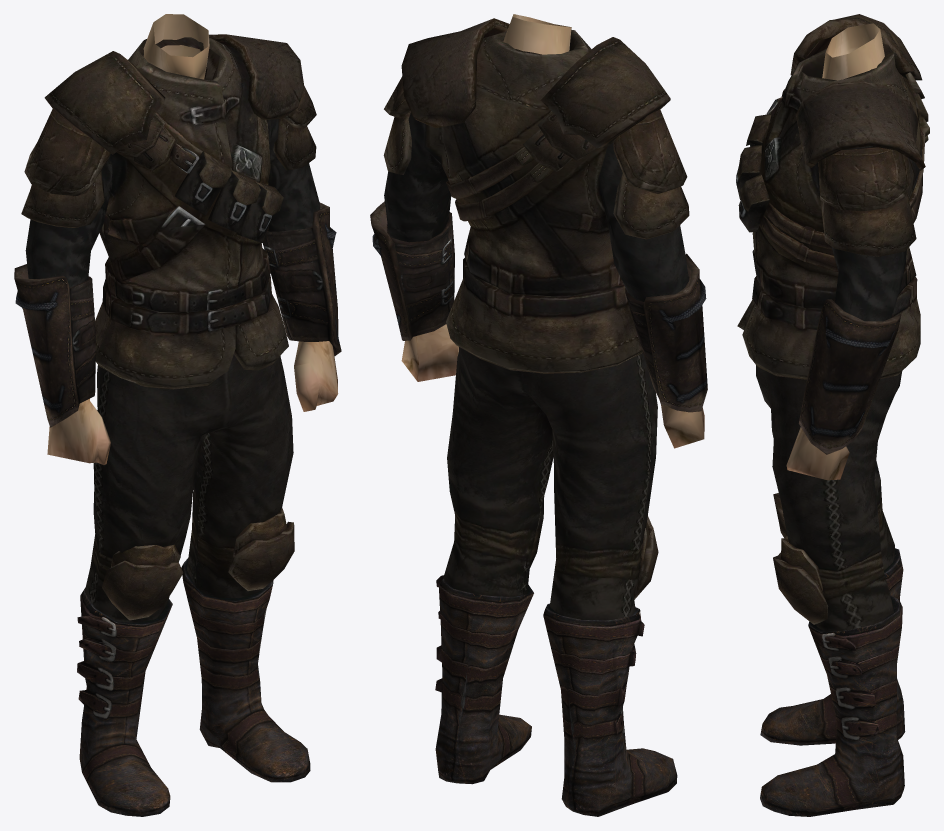
File: ARMOR_DHT_3_ARMOR.glb
3 renders of one model, left to right at view 1: azimuth 30°, elevation 25°; view 2: azimuth 150°, elevation 25°; view 3: azimuth 270°, elevation 25°, orthographic. The views are drawn at different scales.
Visible parts, largest first — view 1: ARMOR_DHT_3_ARMOR; view 2: ARMOR_DHT_3_ARMOR; view 3: ARMOR_DHT_3_ARMOR.
Boxes of the visible parts, bbox=[...] form: ARMOR_DHT_3_ARMOR: bbox=[14, 14, 341, 816]; ARMOR_DHT_3_ARMOR: bbox=[370, 14, 707, 816]; ARMOR_DHT_3_ARMOR: bbox=[736, 14, 929, 816].
Size of the model in its own units: 0.7291 by 1.67 by 0.3977.
Materials: 4 (4 with a texture image).
